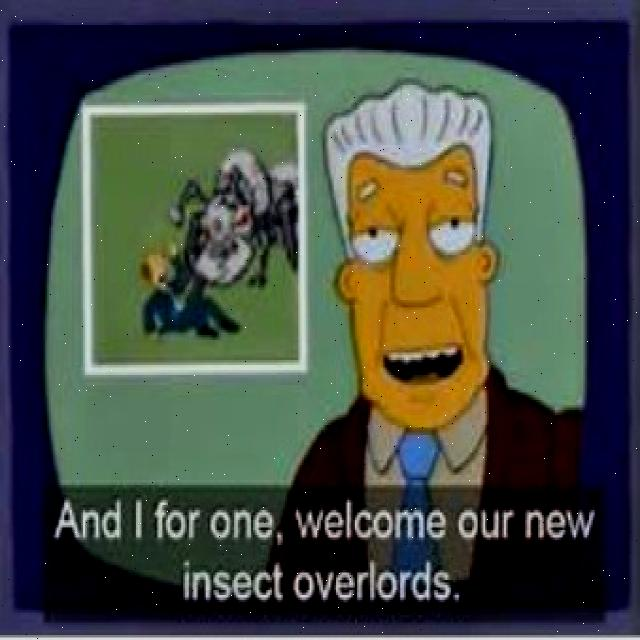Kent Brockman: (317, 76, 502, 434)
